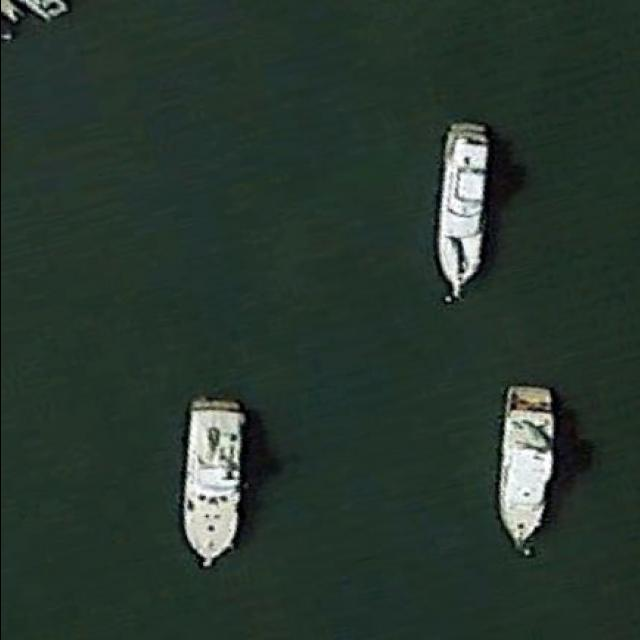ship: (178, 396, 252, 568), (432, 124, 492, 304), (497, 384, 557, 554)
